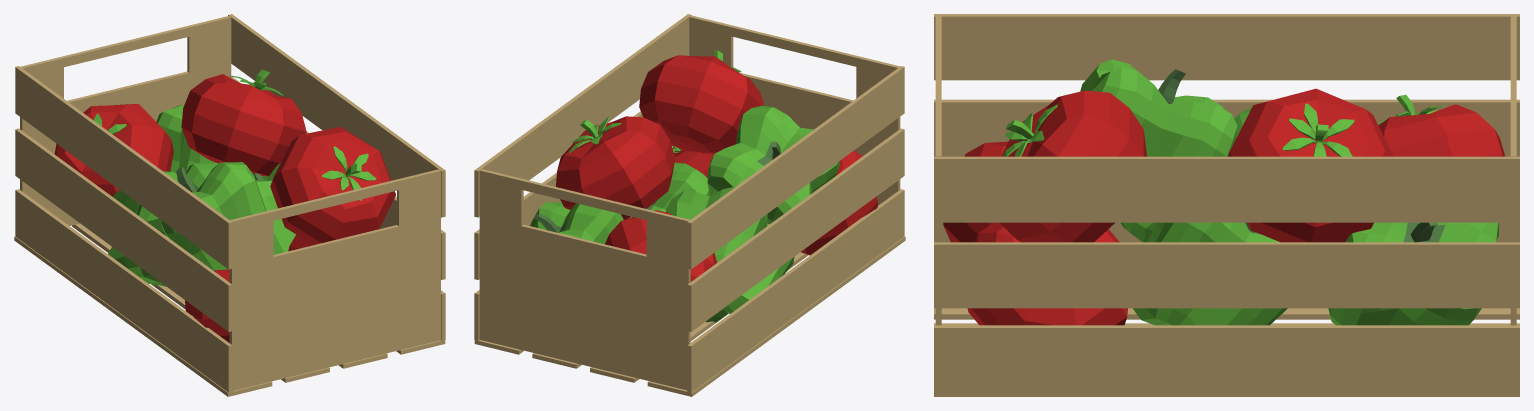
The model's file is Veggies.fbx.
The picture shows the model from 3 angles, left to right: view 1: azimuth 30°, elevation 25°; view 2: azimuth 150°, elevation 25°; view 3: azimuth 270°, elevation 25°; orthographic projection. The views are drawn at different scales.
Parts seen in each view (by area): view 1: Huacal, Tomate1, Tomate2, Pimineto1, Tomate, Pimineto, Pimineto2, Pimineto3, Tomate4; view 2: Huacal, Tomate1, Tomate2, Pimineto1, Pimineto3, Pimineto, Tomate, Pimineto2, Tomate4, Tomate3; view 3: Huacal, Tomate2, Tomate1, Pimineto1, Pimineto, Tomate, Pimineto2, Tomate3, Tomate4.
Boxes of the visible parts, x1,y1,x2,y2 form: Huacal: (14, 14, 445, 396); Tomate1: (270, 127, 395, 243); Tomate2: (181, 69, 306, 176); Pimineto1: (137, 162, 274, 270); Tomate: (54, 103, 173, 196); Pimineto: (156, 104, 262, 176); Pimineto2: (252, 162, 295, 254); Pimineto3: (108, 171, 178, 286); Tomate4: (185, 265, 229, 342); Huacal: (474, 14, 905, 396); Tomate1: (639, 50, 763, 153); Tomate2: (556, 116, 675, 219); Pimineto1: (707, 105, 839, 224); Pimineto3: (666, 186, 794, 322); Pimineto: (530, 202, 623, 244); Tomate: (605, 210, 717, 281); Pimineto2: (627, 162, 709, 218); Tomate4: (800, 151, 877, 255); Tomate3: (672, 145, 713, 177); Huacal: (934, 14, 1519, 396); Tomate2: (1228, 88, 1393, 242); Tomate1: (1000, 90, 1146, 242); Pimineto1: (1080, 59, 1237, 242); Pimineto: (1328, 222, 1498, 325); Tomate: (1377, 94, 1505, 156); Pimineto2: (1133, 222, 1287, 325); Tomate3: (967, 222, 1127, 325); Tomate4: (943, 141, 1007, 242).
Size of the model in its own units: 397 by 325 by 675.
